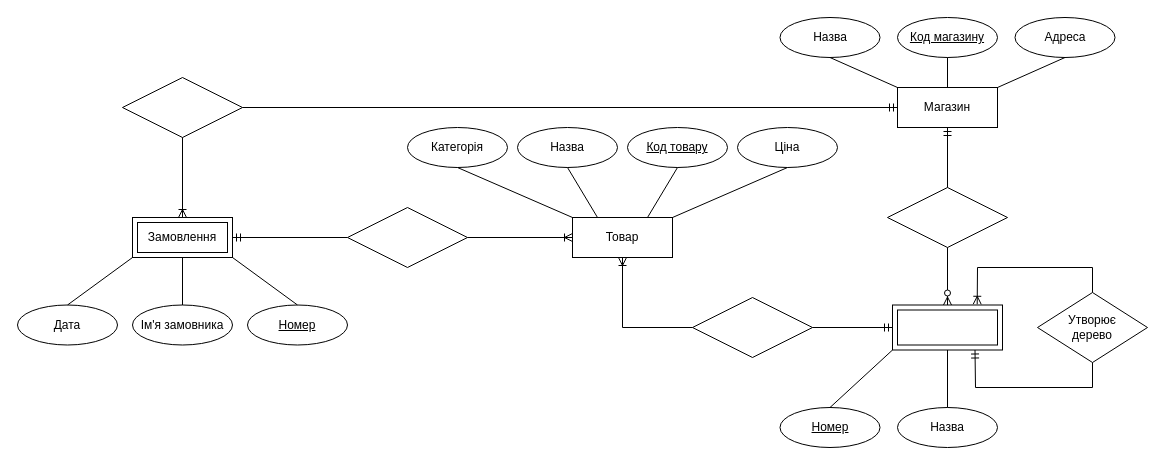
The diagram is 1165 pixels wide and 465 high, and some of its shapes have lost their labels. Here are the shapes that lost their labels. From the top down, the centre of each, then its label:
the point at 182,107: Надходить у
the point at 407,237: Входить у
the point at 947,217: Має
the point at 752,327: Складає
the point at 947,327: Каталог товарів
